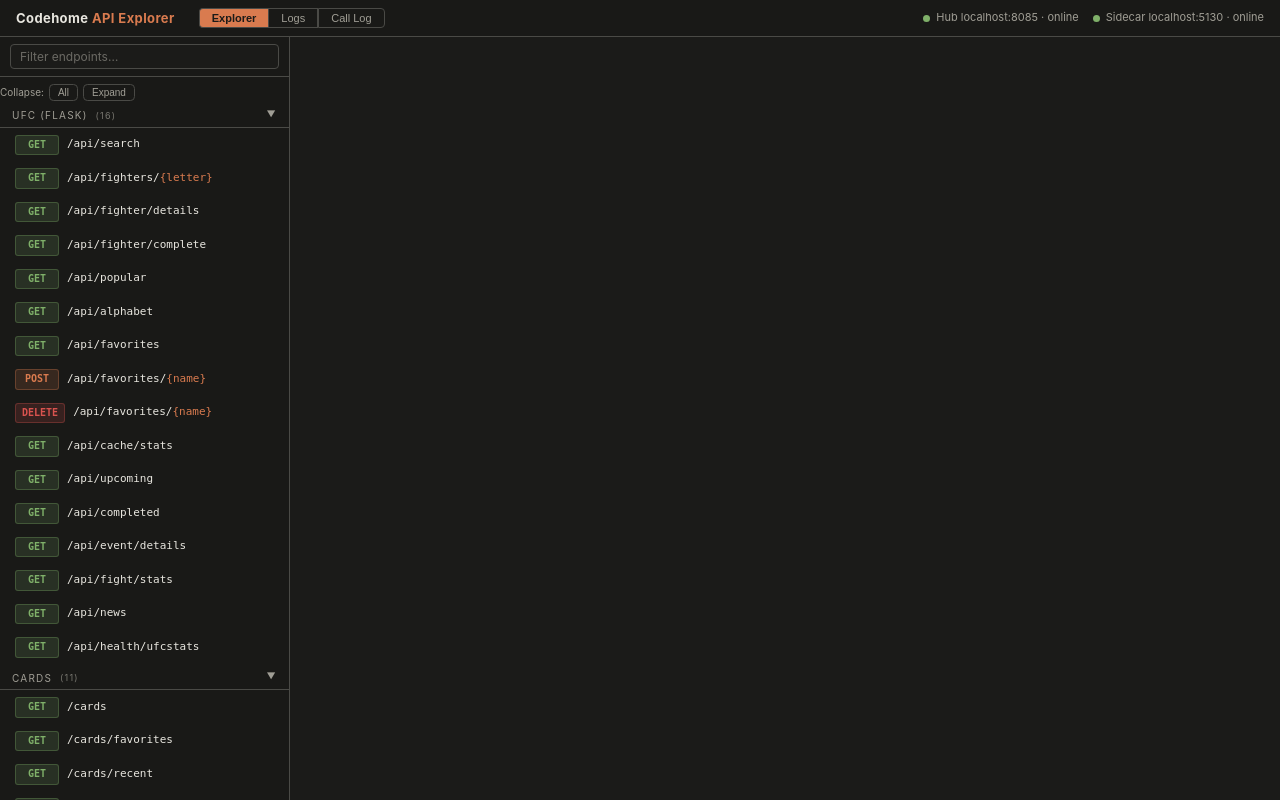
Scenario: HubApiExplorer + LogsExplorer Integration › Log Display › should render empty state when logs are filtered to nothing
Click the tab with test id "tab-button-logs" at (293, 18), box left=268, top=8, right=318, bottom=28
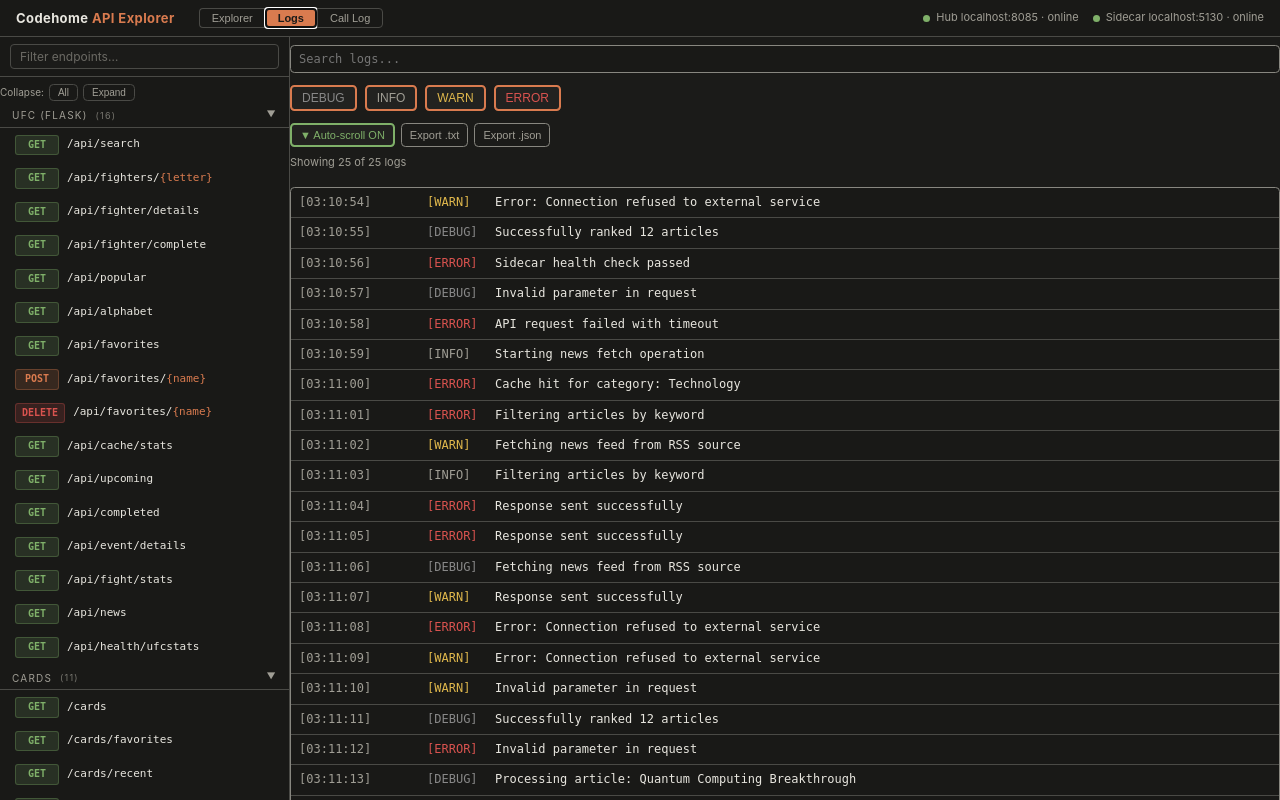
Check: the field with test id "log-search-input" is shown
Type "zzz-nonexistent-log-text-9999" into the field with test id "log-search-input" at (785, 59), box left=290, top=45, right=1279, bottom=73
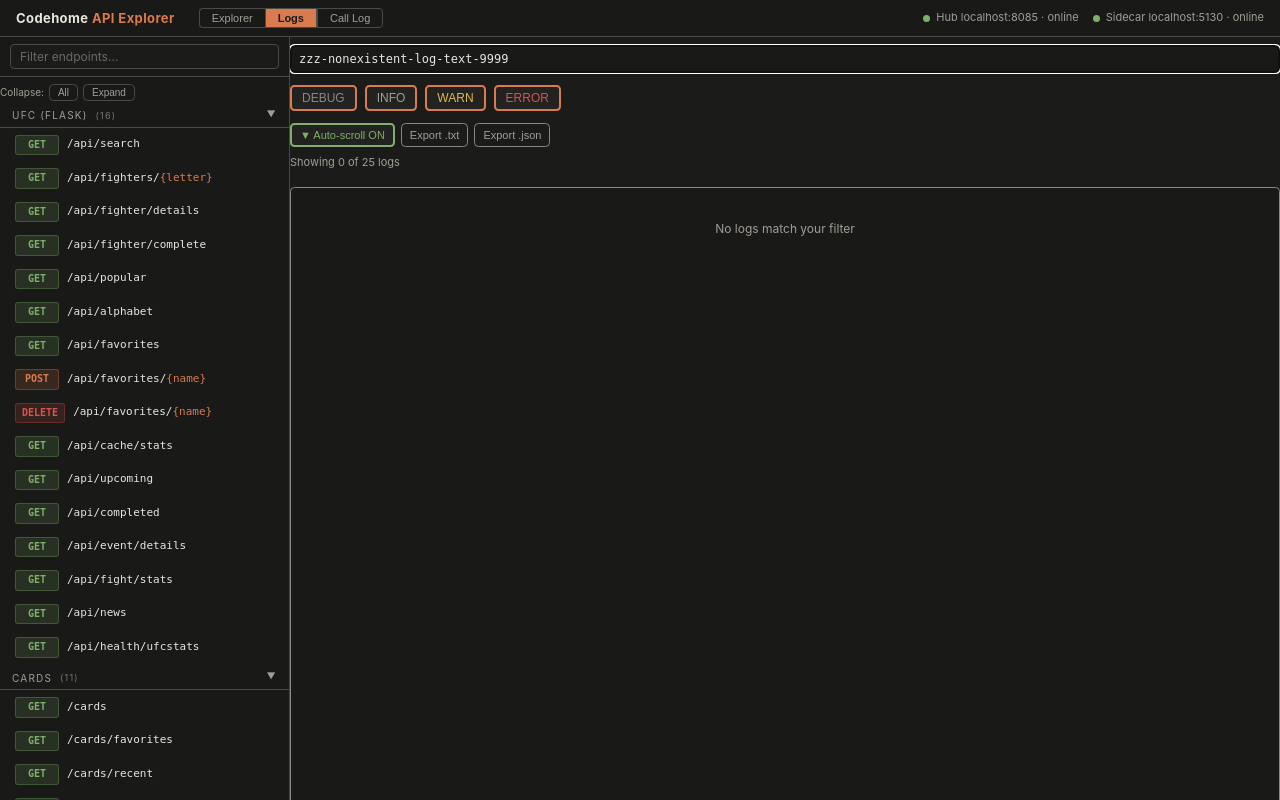
Check: the text "No logs match your filter" is shown, box left=715, top=221, right=855, bottom=236
